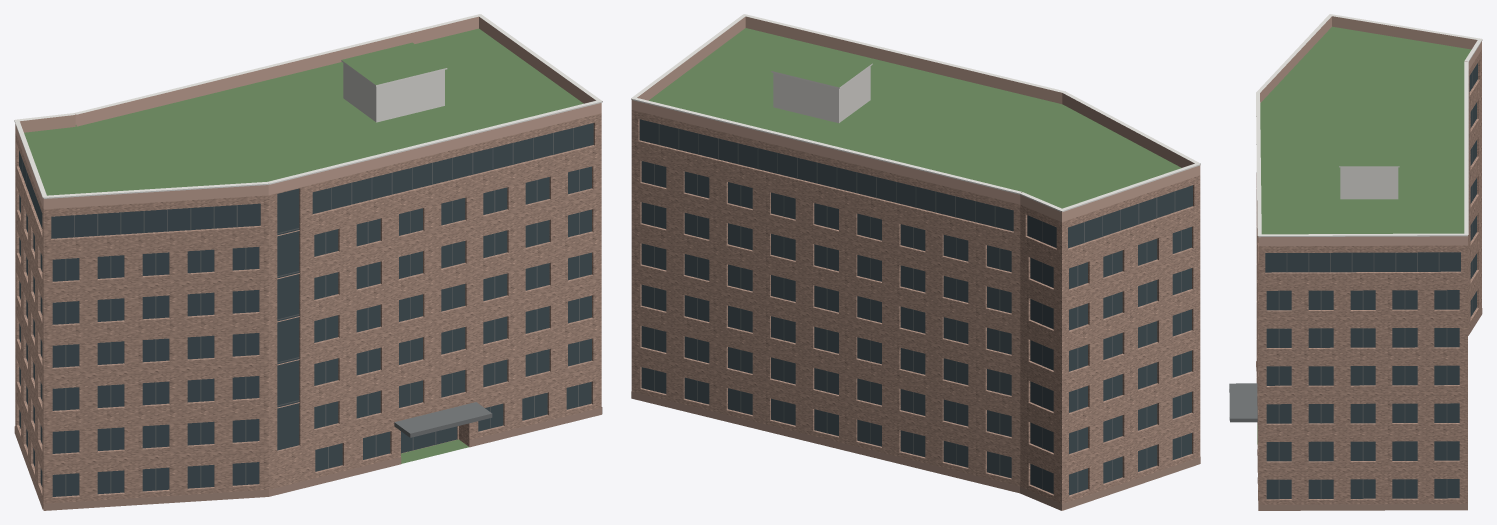
3 views of the same model, side by side, from view 1: azimuth 30°, elevation 25°; view 2: azimuth 150°, elevation 25°; view 3: azimuth 270°, elevation 25° (orthographic). The views are drawn at different scales.
Parts seen in each view (by area): view 1: north5351__wall, north5351__glass, north5351__roof, north5351__parapet, north5351__trim, north5351__base, north5351__wall2, north5351__frame, north5351__canopy; view 2: north5351__wall, north5351__glass, north5351__roof, north5351__parapet, north5351__trim, north5351__base, north5351__wall2, north5351__frame; view 3: north5351__wall, north5351__roof, north5351__glass, north5351__parapet, north5351__trim, north5351__wall2, north5351__base, north5351__frame, north5351__canopy.
Part boxes in pixels (x1,y1,x2,y2): north5351__wall: (15, 113, 601, 509); north5351__glass: (19, 123, 593, 496); north5351__roof: (24, 28, 583, 463); north5351__parapet: (15, 16, 601, 209); north5351__trim: (14, 14, 602, 198); north5351__base: (14, 407, 602, 510); north5351__wall2: (343, 63, 444, 122); north5351__frame: (22, 128, 579, 496); north5351__canopy: (394, 402, 492, 437); north5351__wall: (631, 110, 1200, 510); north5351__glass: (639, 119, 1192, 495); north5351__roof: (649, 28, 1181, 208); north5351__parapet: (631, 16, 1200, 221); north5351__trim: (631, 14, 1200, 211); north5351__base: (631, 391, 1200, 510); north5351__wall2: (773, 66, 870, 123); north5351__frame: (654, 124, 1181, 492); north5351__wall: (1256, 50, 1481, 504); north5351__roof: (1257, 26, 1471, 444); north5351__glass: (1265, 63, 1477, 499); north5351__parapet: (1258, 16, 1481, 246); north5351__trim: (1256, 14, 1482, 237); north5351__wall2: (1340, 167, 1398, 199); north5351__base: (1256, 308, 1482, 510); north5351__frame: (1278, 71, 1472, 499); north5351__canopy: (1229, 383, 1257, 422).
Bounding box in the file's own units: 45.39 × 28.4 × 21.86.
10 materials, 1 textured.
